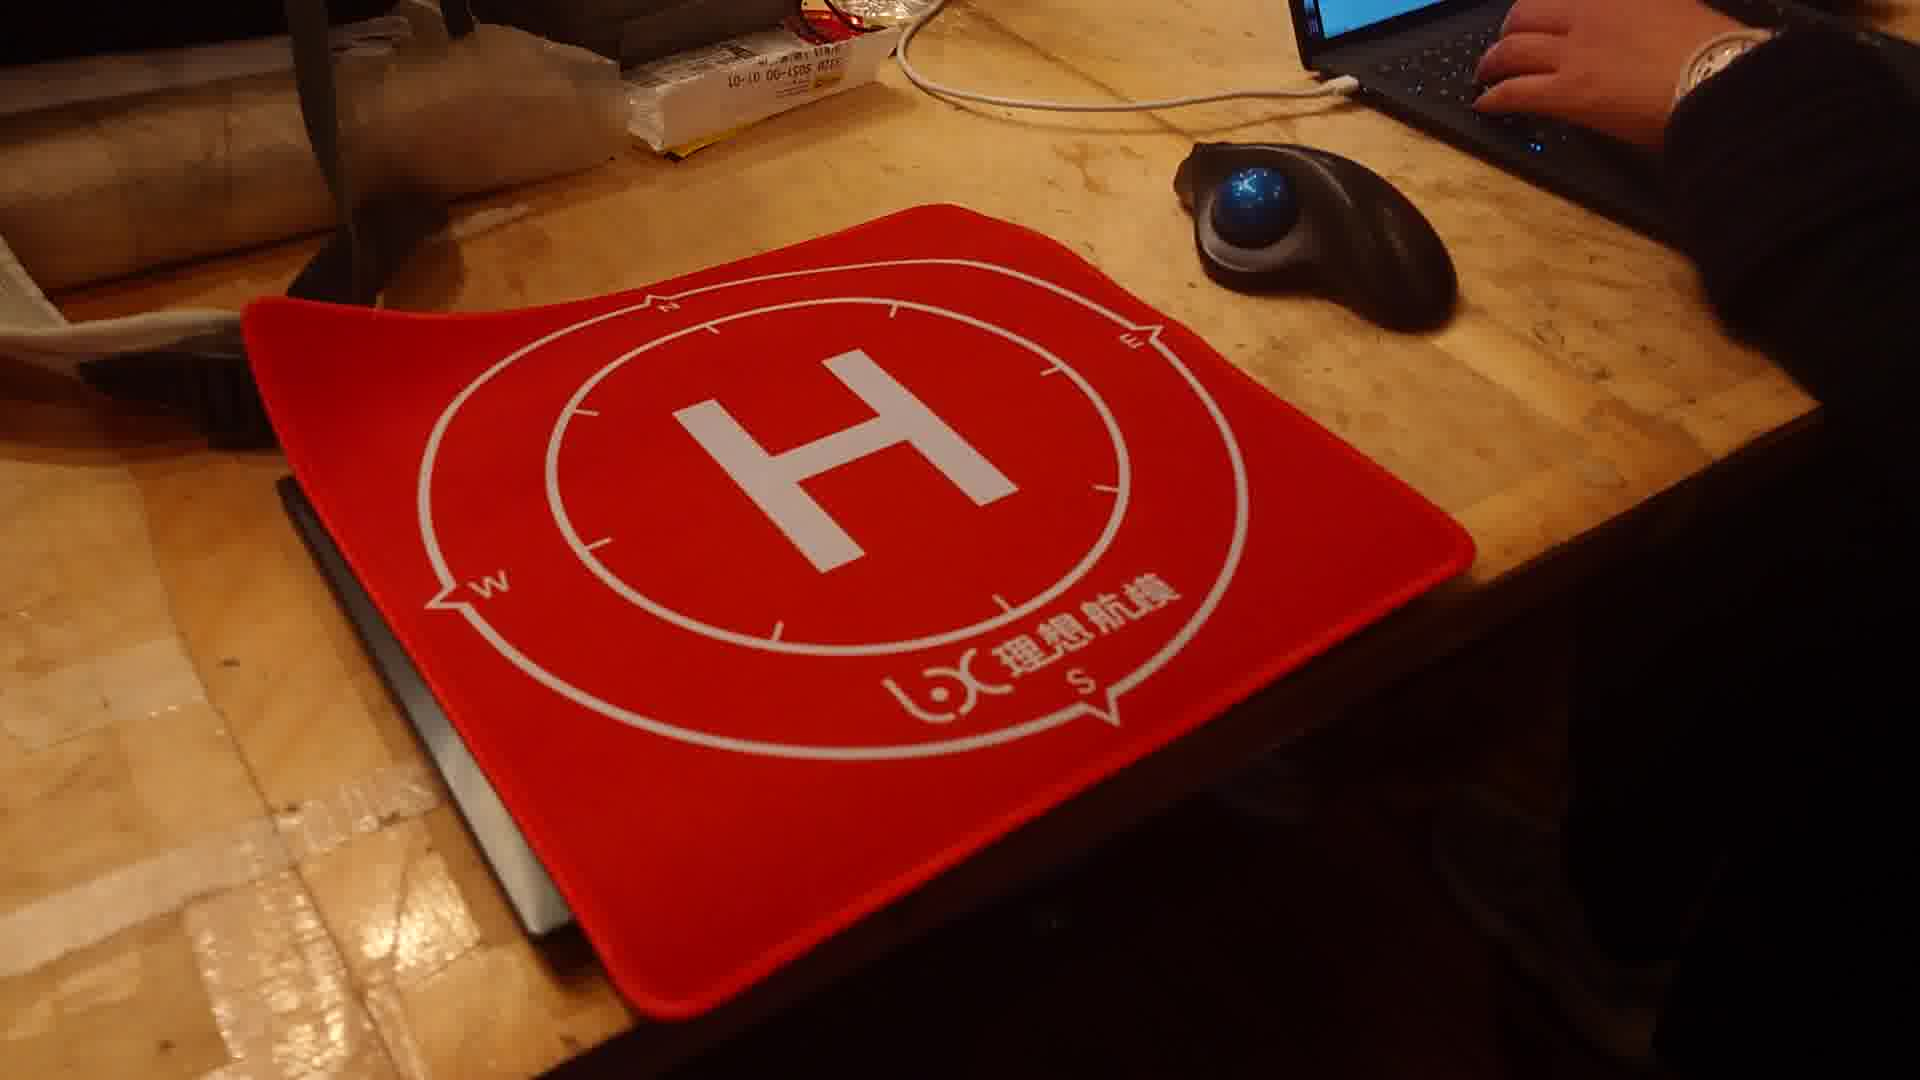H: (674, 345, 1022, 578)
